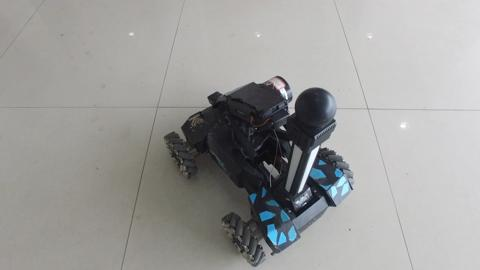chariot: (142, 65, 363, 267)
